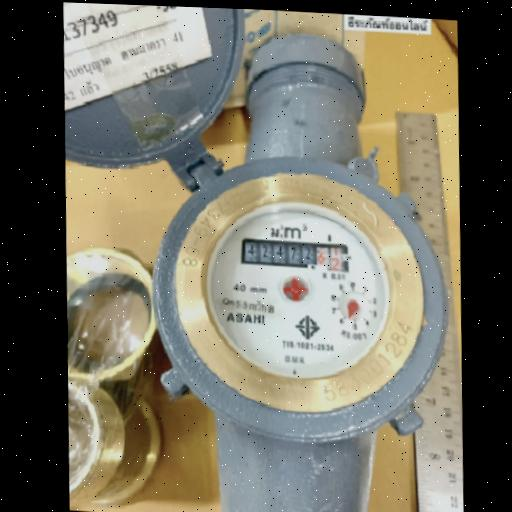2: (331, 249, 342, 271), (260, 243, 272, 262), (303, 246, 313, 264)
4: (273, 244, 285, 263), (245, 243, 257, 261)
6: (316, 247, 328, 264)
7: (288, 245, 300, 263)
border_water_meter_number: (241, 238, 350, 273)
